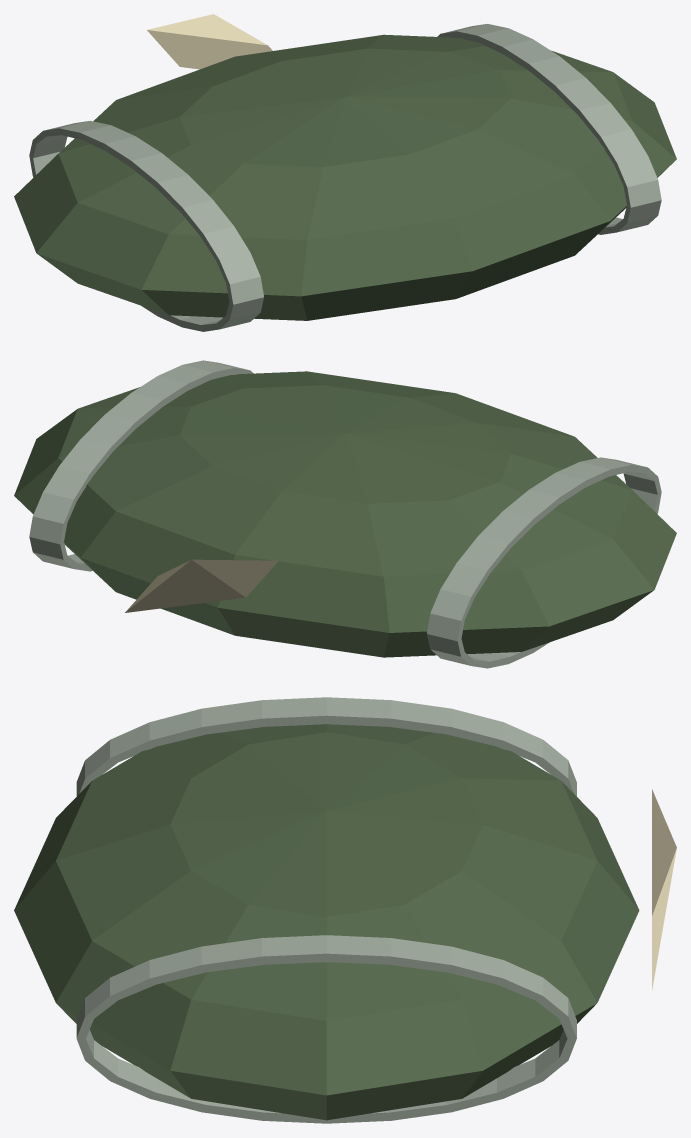
Rendered from AE_Item_MossPoultice.fbx.
3 renders of one model, top to bottom at view 1: azimuth 30°, elevation 25°; view 2: azimuth 150°, elevation 25°; view 3: azimuth 270°, elevation 25°, orthographic. The views are drawn at different scales.
Parts seen in each view (by area): view 1: AE_Item_MossPoultice; view 2: AE_Item_MossPoultice; view 3: AE_Item_MossPoultice.
Boxes of the visible parts, left/top/right/bottom form: AE_Item_MossPoultice: left=14, top=14, right=676, bottom=331; AE_Item_MossPoultice: left=14, top=360, right=676, bottom=668; AE_Item_MossPoultice: left=14, top=697, right=676, bottom=1123.
Size of the model in its own units: 0.28 by 0.07 by 0.212.
